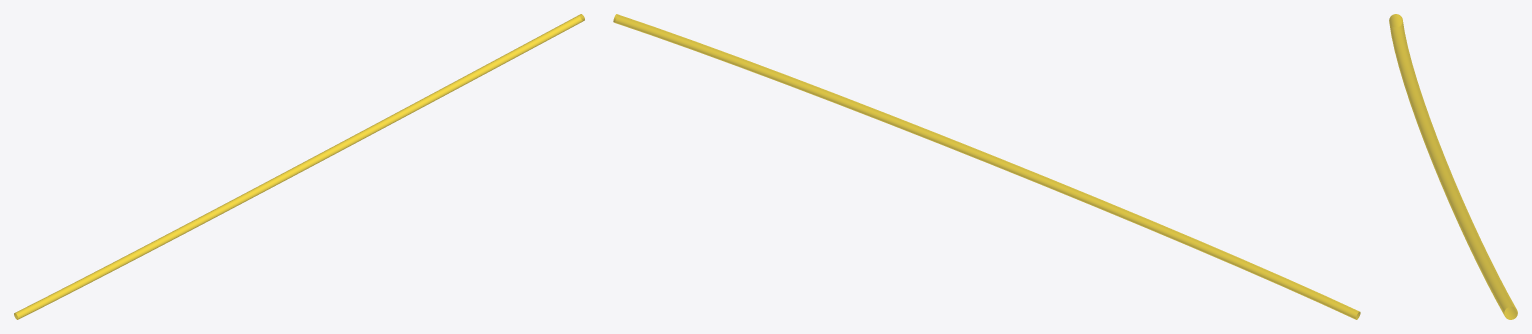
The model's file is Event_40932208_track_45.fbx.
The picture shows the model from 3 angles, left to right: view 1: azimuth 30°, elevation 25°; view 2: azimuth 150°, elevation 25°; view 3: azimuth 270°, elevation 25°; orthographic projection. The views are drawn at different scales.
Parts seen in each view (by area): view 1: Model; view 2: Model; view 3: Model.
Boxes of the visible parts, bbox=[...] form: Model: bbox=[14, 14, 584, 319]; Model: bbox=[613, 14, 1360, 319]; Model: bbox=[1389, 14, 1517, 319].
Size of the model in its own units: 3.6 by 0.783 by 0.3712.
